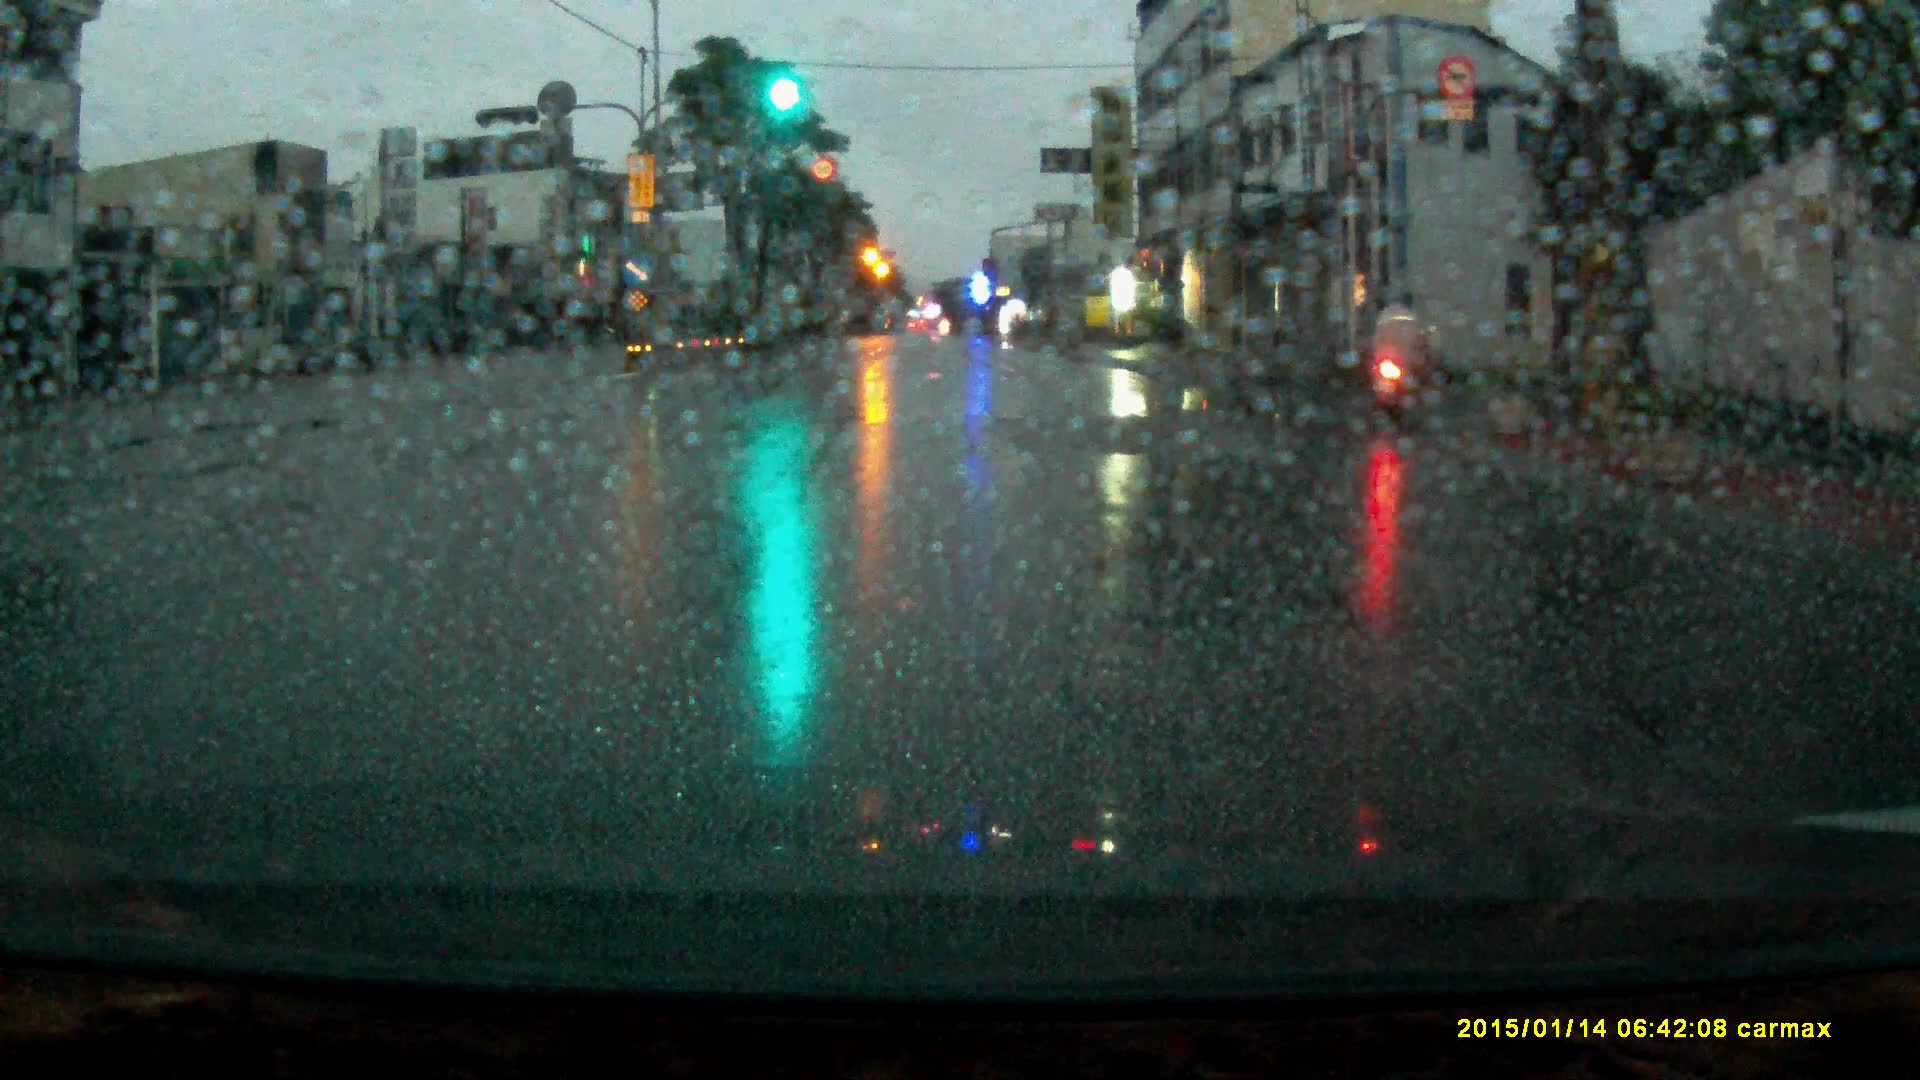rider: (1361, 288, 1443, 423)
